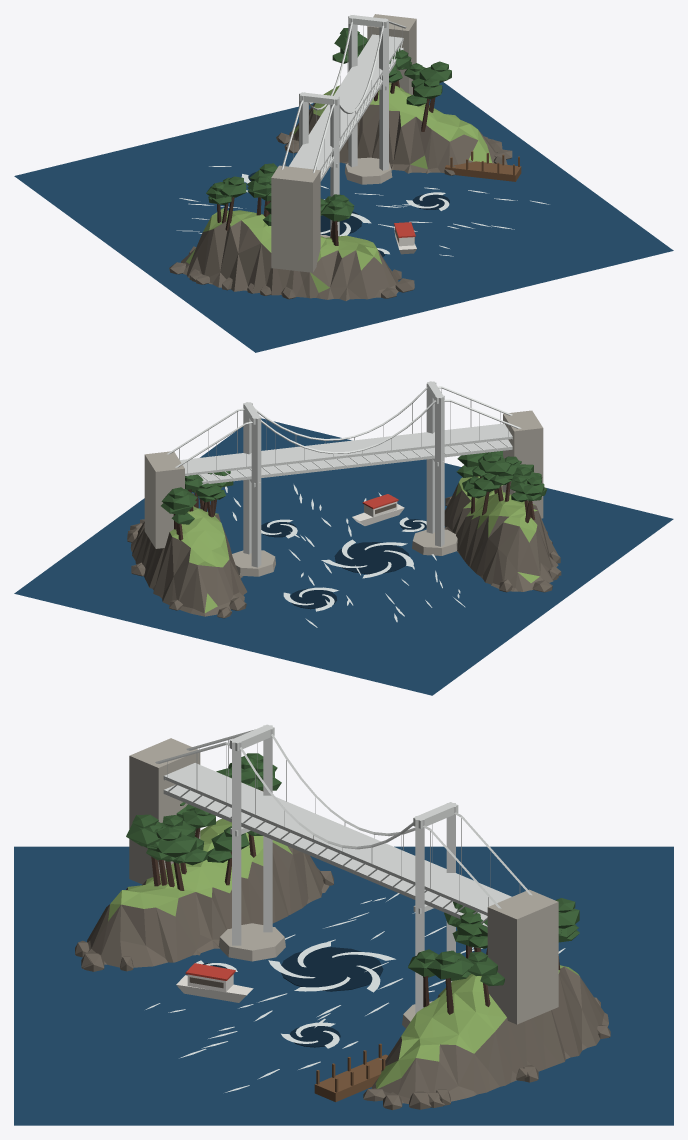
The model's file is naruto.glb.
3 views of the same model, one above another, from view 1: azimuth 30°, elevation 25°; view 2: azimuth 150°, elevation 25°; view 3: azimuth 270°, elevation 25° (orthographic). The views are drawn at different scales.
Parts seen in each view (by area): view 1: naruto_water, naruto_rock, naruto_bridge, naruto_concrete, naruto_terrain, naruto_pine, naruto_wood, naruto_foam, naruto_bark, naruto_deep; view 2: naruto_water, naruto_bridge, naruto_rock, naruto_concrete, naruto_pine, naruto_terrain, naruto_deep, naruto_foam, naruto_bark, naruto_white; view 3: naruto_water, naruto_rock, naruto_bridge, naruto_concrete, naruto_terrain, naruto_pine, naruto_deep, naruto_foam, naruto_wood, naruto_bark, naruto_white.
Boxes of the visible parts, x1,y1,x2,y2 form: naruto_water: (14, 82, 673, 352); naruto_rock: (169, 103, 512, 300); naruto_bridge: (281, 15, 406, 236); naruto_concrete: (271, 14, 416, 272); naruto_terrain: (186, 83, 492, 292); naruto_pine: (206, 28, 451, 225); naruto_wood: (445, 151, 521, 181); naruto_foam: (176, 166, 549, 256); naruto_bark: (217, 68, 435, 245); naruto_deep: (248, 172, 449, 256); naruto_water: (14, 418, 673, 695); naruto_bridge: (167, 381, 521, 567); naruto_rock: (127, 483, 561, 618); naruto_concrete: (144, 410, 543, 576); naruto_pine: (161, 451, 547, 524); naruto_terrain: (170, 476, 539, 612); naruto_deep: (261, 519, 426, 609); naruto_foam: (225, 484, 465, 627); naruto_bark: (173, 476, 535, 540); naruto_white: (352, 501, 404, 525); naruto_water: (14, 846, 673, 1125); naruto_rock: (75, 842, 610, 1110); naruto_bridge: (155, 724, 532, 1014); naruto_concrete: (129, 738, 558, 1028); naruto_terrain: (108, 818, 579, 1088); naruto_pine: (126, 753, 579, 986); naruto_deep: (203, 947, 383, 1047); naruto_foam: (145, 893, 565, 1092); naruto_wood: (314, 1043, 387, 1102); naruto_bark: (151, 790, 560, 1014); naruto_white: (176, 974, 253, 1002).
Bounding box in the file's own units: 22.4 × 8.55 × 22.4.
